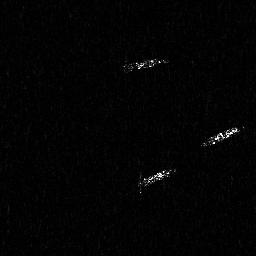ship: (137, 165, 178, 199), (199, 124, 244, 151), (121, 55, 170, 75)
